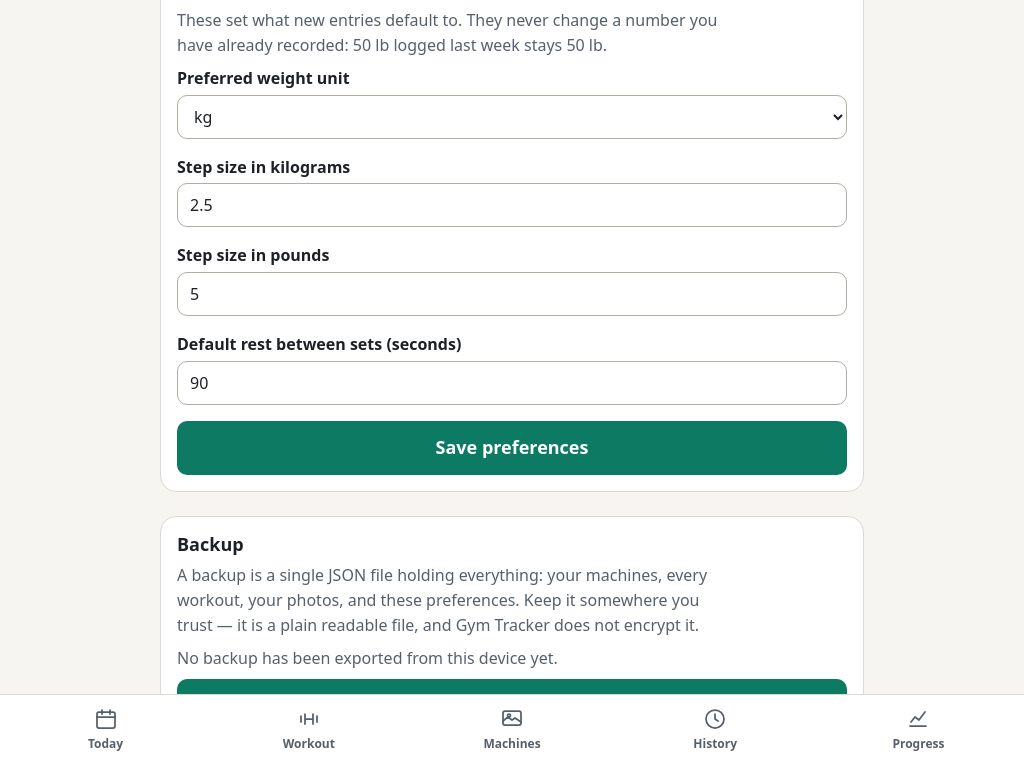
Test: rejecting an unusable preference › refuses a rest time that is not whole seconds
The width and height of the screenshot is (1024, 766).
(page scrolled)
Expected: the dropdown labelled "Preferred weight unit" is shown, x1=177 y1=95 x2=847 y2=139
Replace the text in the field labelled "Default rest between sets (seconds)" with "90.5" at {"x": 512, "y": 383}, box x1=177 y1=361 x2=847 y2=405
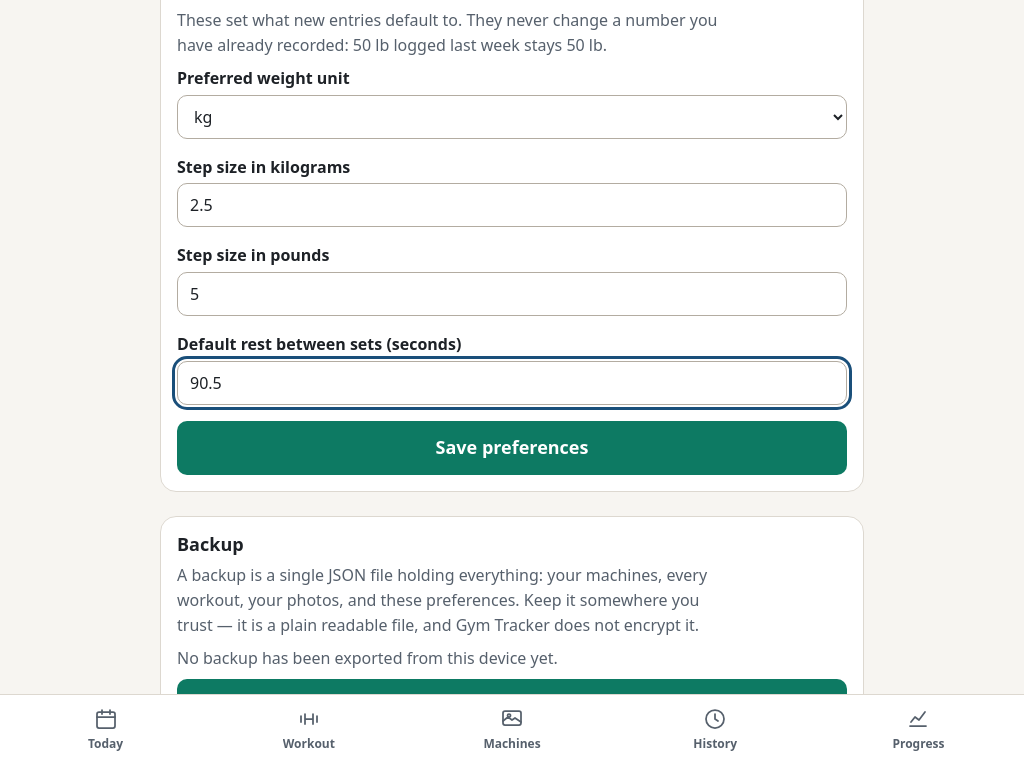
Click the button "Save preferences" at {"x": 512, "y": 448}, box x1=177 y1=421 x2=847 y2=475
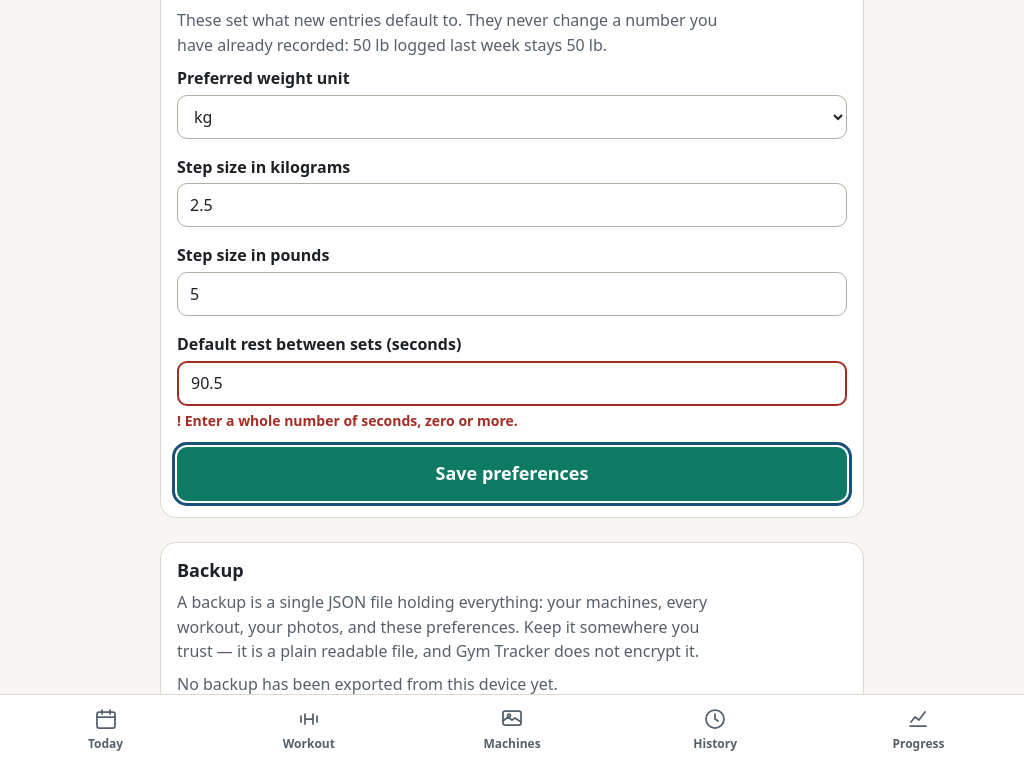
Result: the text "Enter a whole number of seconds, zero or more." is shown at x1=185 y1=411 x2=518 y2=430
